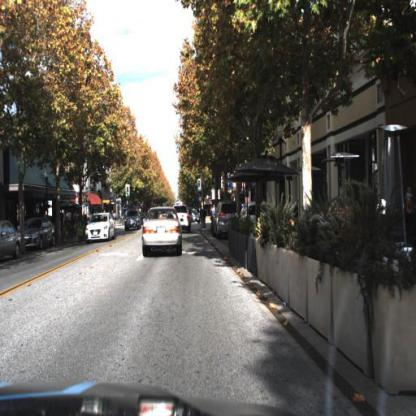car: (141, 206, 185, 258), (22, 214, 56, 250), (81, 212, 118, 243), (25, 216, 58, 249), (1, 220, 26, 262), (212, 203, 237, 239), (123, 205, 143, 234), (122, 207, 143, 231), (177, 203, 192, 233)
trafficLight-Green: (197, 177, 203, 195)
